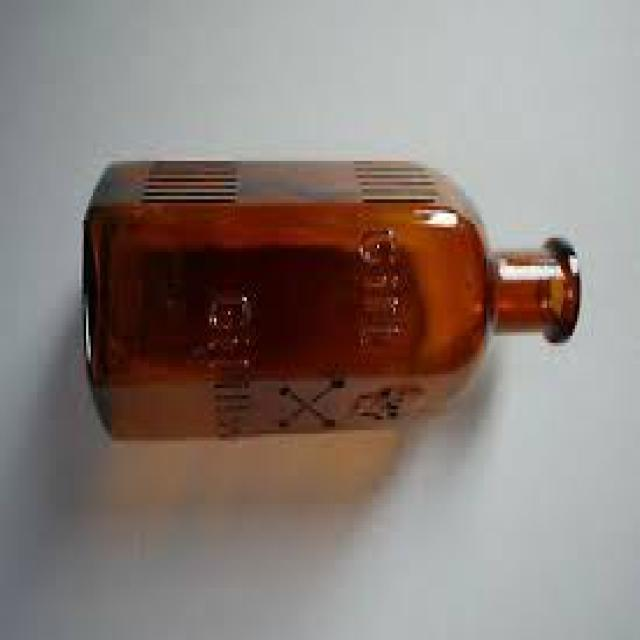glass: (82, 154, 580, 441)
